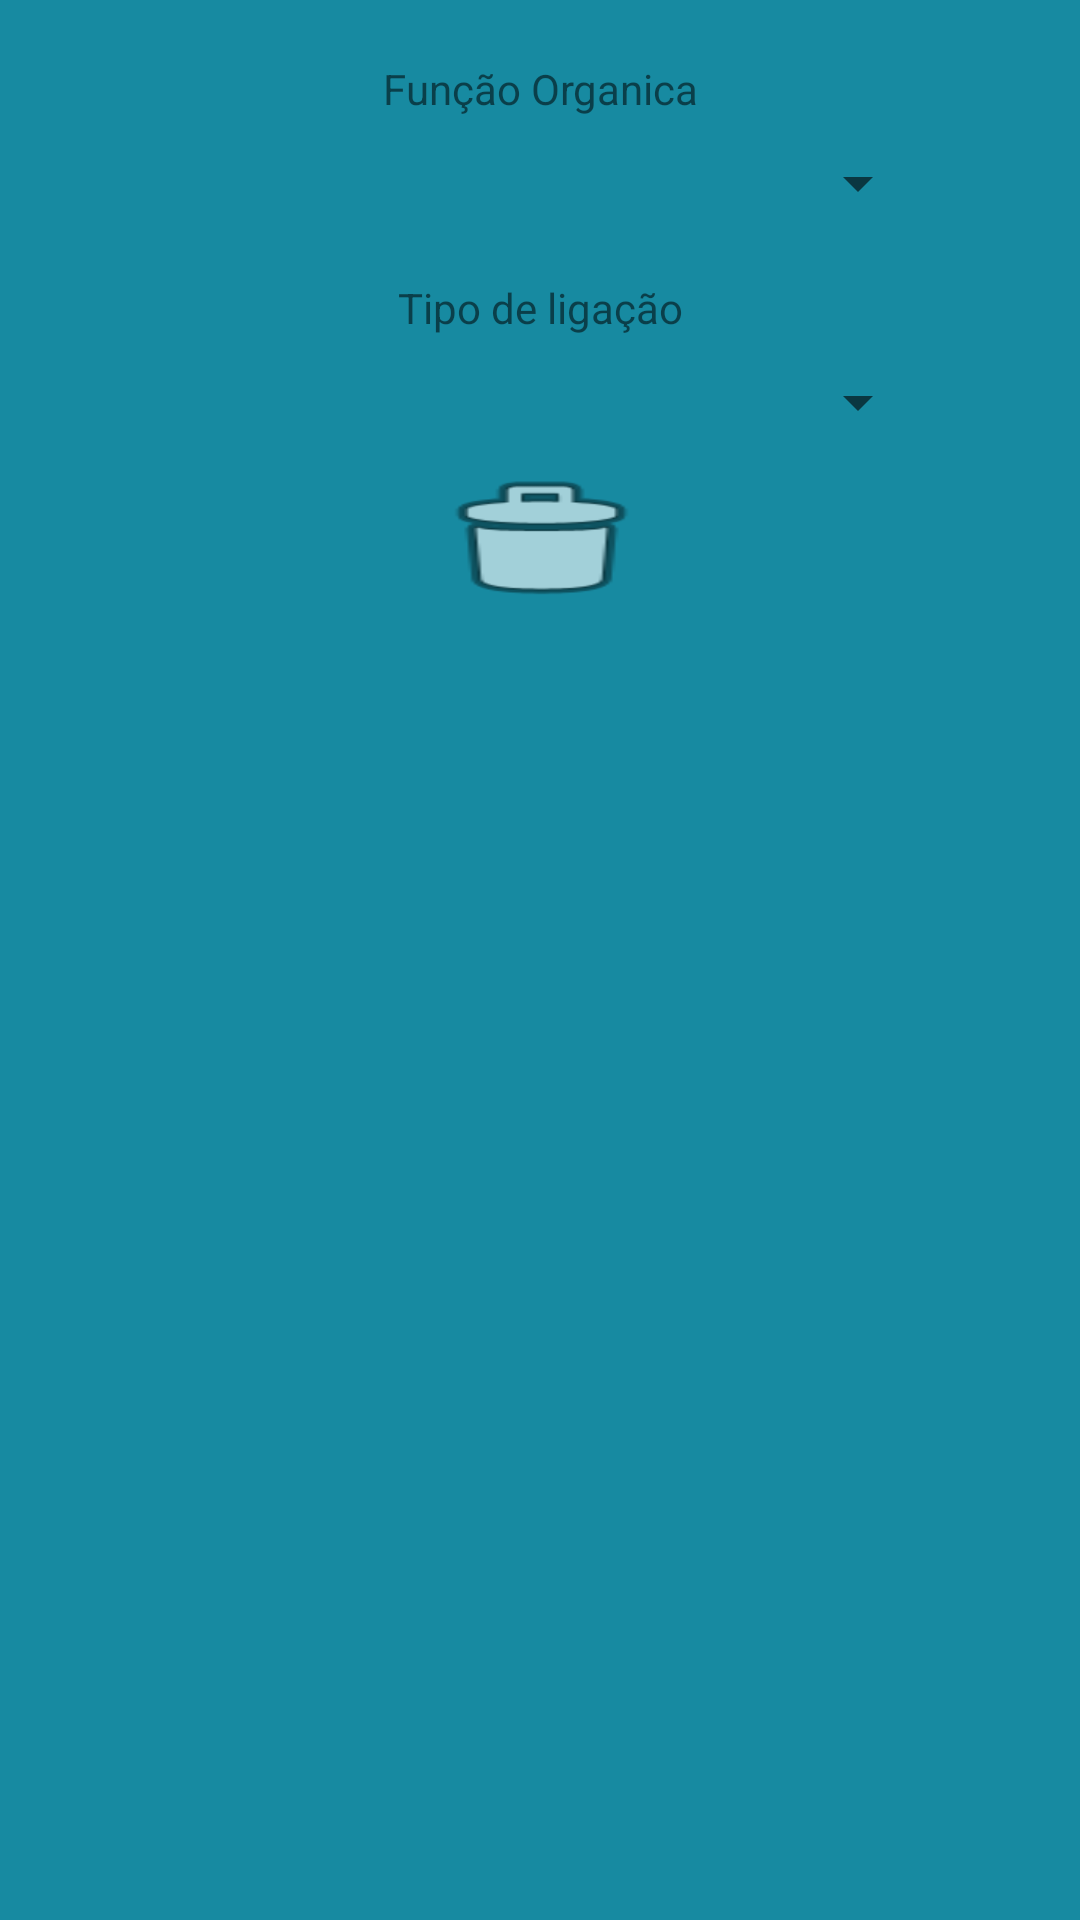

Named icons in this screenshot (1080px x 1920px) and their centers, point (x, y):
delete: point (541, 538)
